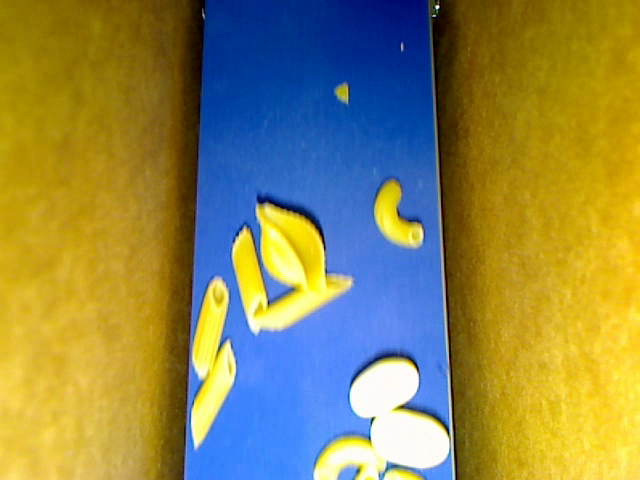elbow: (374, 177, 422, 247), (313, 435, 387, 479)
penne: (251, 273, 353, 330), (190, 340, 236, 449), (230, 224, 269, 335), (192, 275, 228, 380)
shell: (253, 201, 326, 292)
